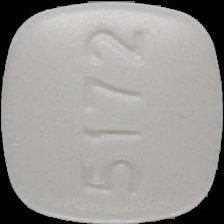54868-5860: (0, 0, 224, 224)
